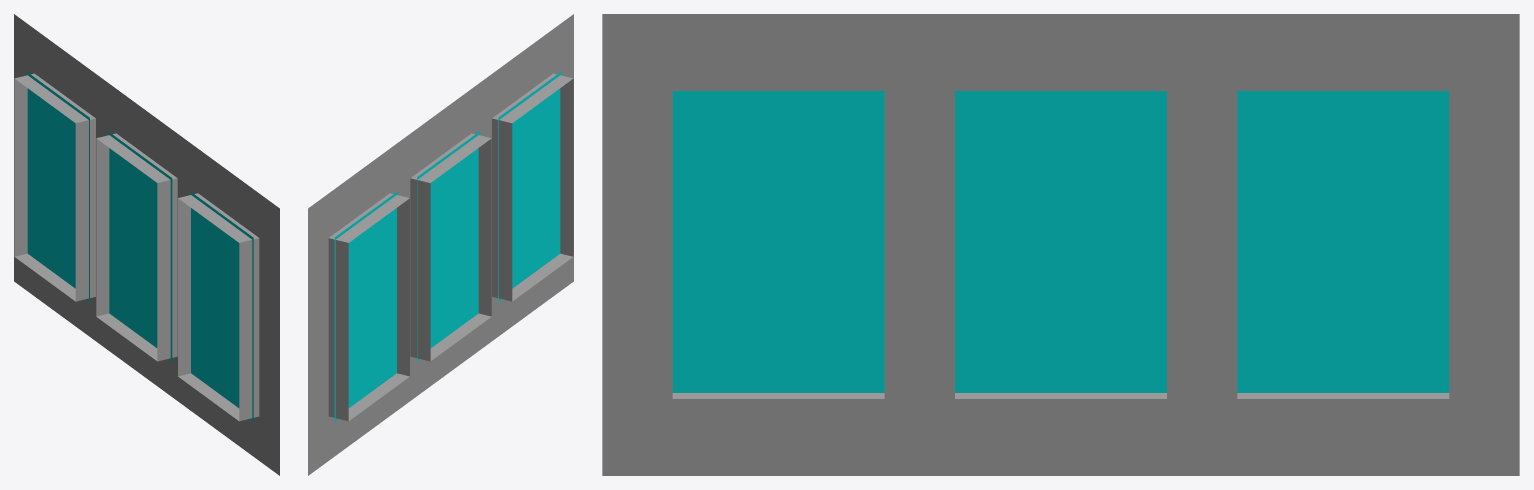
Rendered from WindowedWall_01.fbx.
3 views of the same model, side by side, from view 1: azimuth 30°, elevation 25°; view 2: azimuth 150°, elevation 25°; view 3: azimuth 270°, elevation 25° (orthographic). The views are drawn at different scales.
Visible parts, largest first — view 1: polySurface1, polySurface5, polySurface6, polySurface4; view 2: polySurface1, polySurface4, polySurface6, polySurface5; view 3: polySurface1, polySurface4, polySurface6, polySurface5.
Boxes of the visible parts, box(x1,y1,x2,y2) form: polySurface1: box(14, 14, 279, 475); polySurface5: box(109, 132, 172, 361); polySurface6: box(190, 191, 253, 421); polySurface4: box(26, 72, 89, 301); polySurface1: box(308, 14, 573, 475); polySurface4: box(334, 191, 397, 421); polySurface6: box(498, 71, 561, 301); polySurface5: box(417, 131, 480, 361); polySurface1: box(602, 14, 1519, 475); polySurface4: box(1237, 91, 1449, 392); polySurface6: box(672, 91, 884, 392); polySurface5: box(955, 91, 1166, 392).
Bounding box in the file's own units: 0.3944 × 5 × 9.
